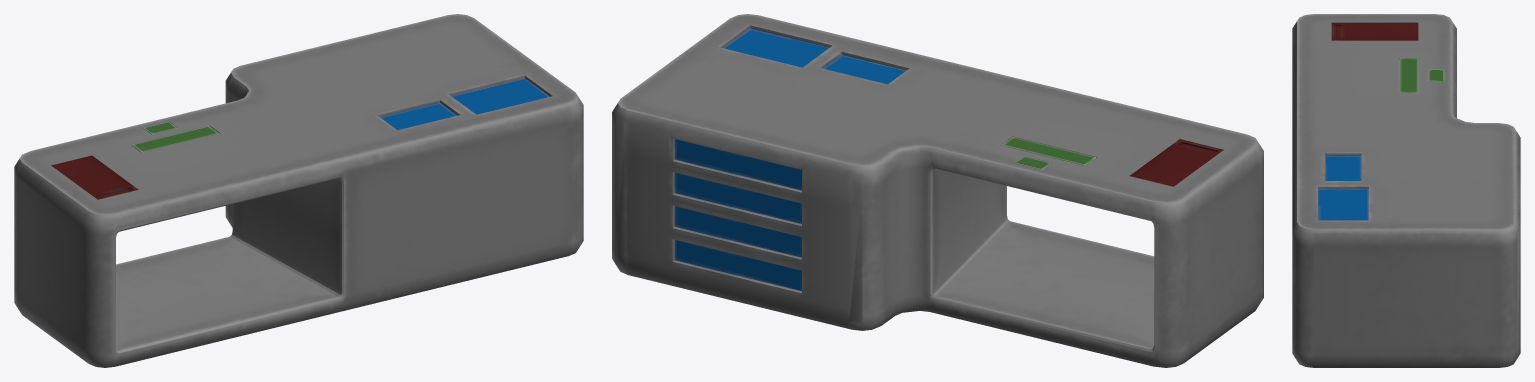
The model's file is Computer Table.fbx.
3 renders of one model, left to right at view 1: azimuth 30°, elevation 25°; view 2: azimuth 150°, elevation 25°; view 3: azimuth 270°, elevation 25°, orthographic. The views are drawn at different scales.
Parts seen in each view (by area): view 1: Computer Table; view 2: Computer Table; view 3: Computer Table.
Boxes of the visible parts, x1,y1,x2,y2 form: Computer Table: (14,14,583,367); Computer Table: (612,14,1263,367); Computer Table: (1292,14,1520,367).
Size of the model in its own units: 233 by 68.7 by 103.
